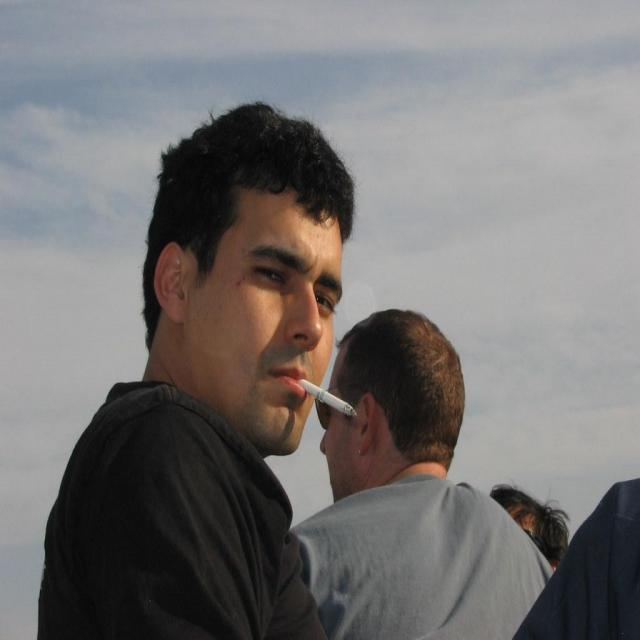Сигарета: (298, 375, 357, 418)
Тело: (50, 110, 346, 640), (329, 313, 526, 640)
